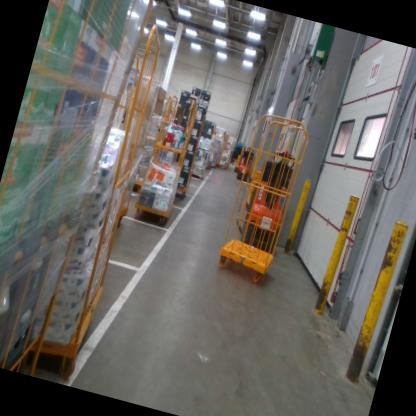pallet: (188, 168, 207, 181)
pallet_truck: (232, 137, 307, 258), (233, 141, 258, 183), (231, 142, 250, 176)
